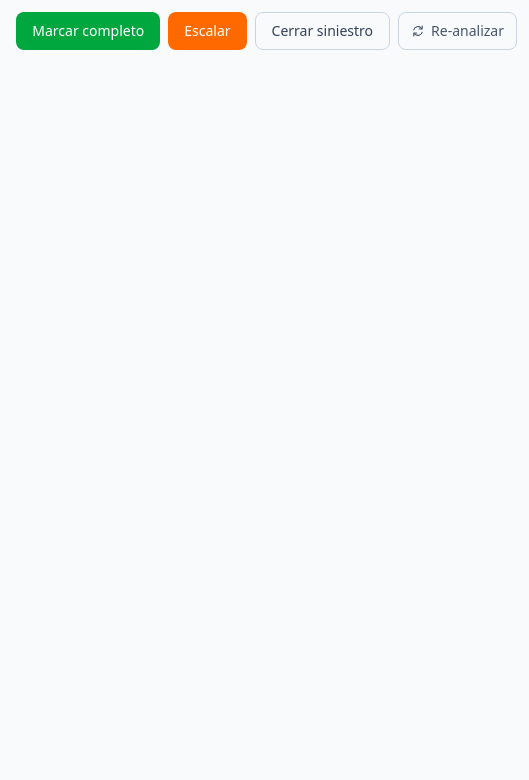
Test: la situación del caso › el detalle en es-AR avisa un cambio que responde 409 con «Ese cambio de situación no es válido.»
Click the button with test id "action-marcar-completo".
click(88, 31)  # box [16, 12, 160, 50]
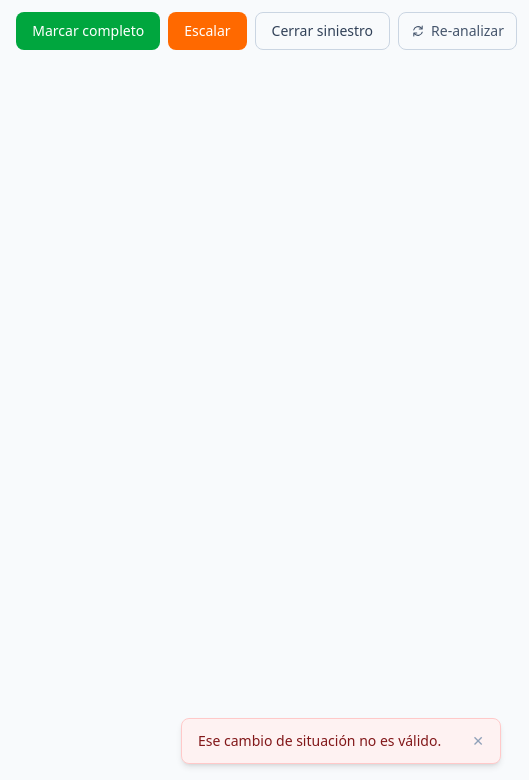
Check: the text "Ese cambio de situación no es válido." is shown, box [198, 731, 441, 751]
